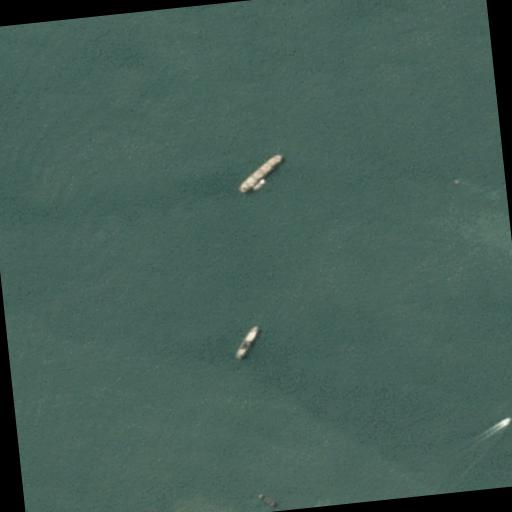ship: (236, 152, 288, 192), (230, 322, 266, 356), (258, 491, 280, 509), (251, 176, 268, 191), (501, 415, 512, 424), (140, 509, 160, 512)
